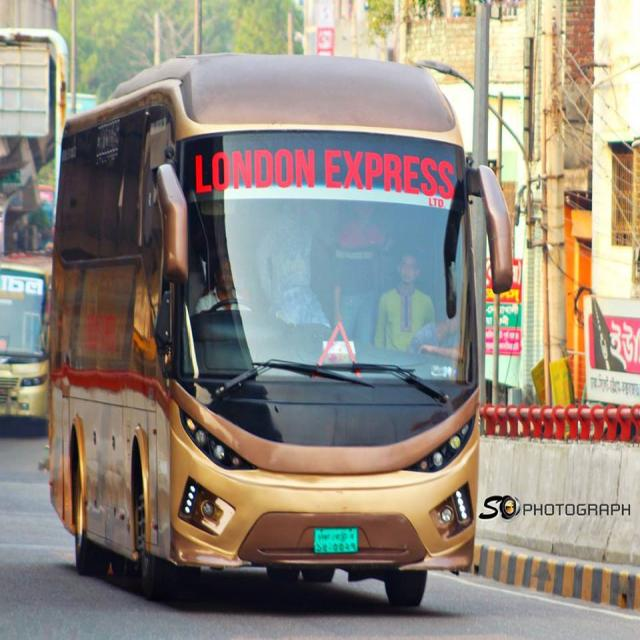bus: (49, 54, 513, 614)
